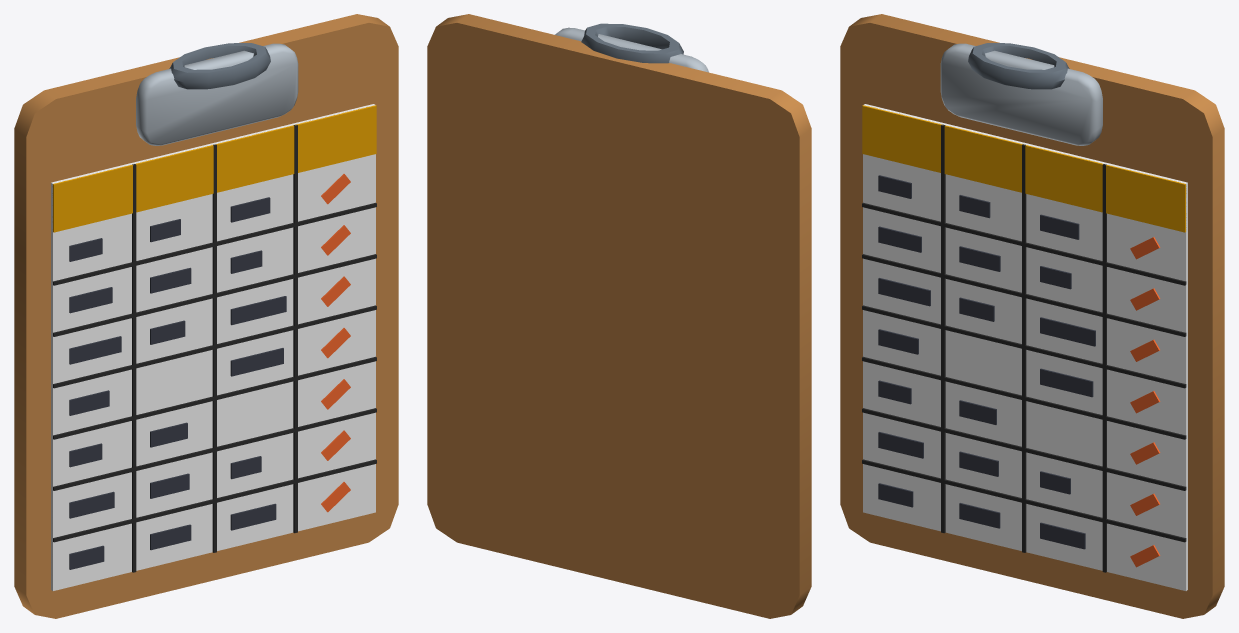
The model's file is clipboard.fbx.
The picture shows the model from 3 angles, left to right: view 1: azimuth 30°, elevation 25°; view 2: azimuth 150°, elevation 25°; view 3: azimuth 330°, elevation 25°; orthographic projection.
Visible parts, largest first — view 1: Clipboard; view 2: Clipboard; view 3: Clipboard.
Part boxes in pixels (bbox=[...]): Clipboard: bbox=[14, 14, 398, 618]; Clipboard: bbox=[427, 14, 811, 618]; Clipboard: bbox=[840, 14, 1224, 618].
Size of the model in its own units: 0.09 by 0.1219 by 0.0147.
1 material, 1 textured.
